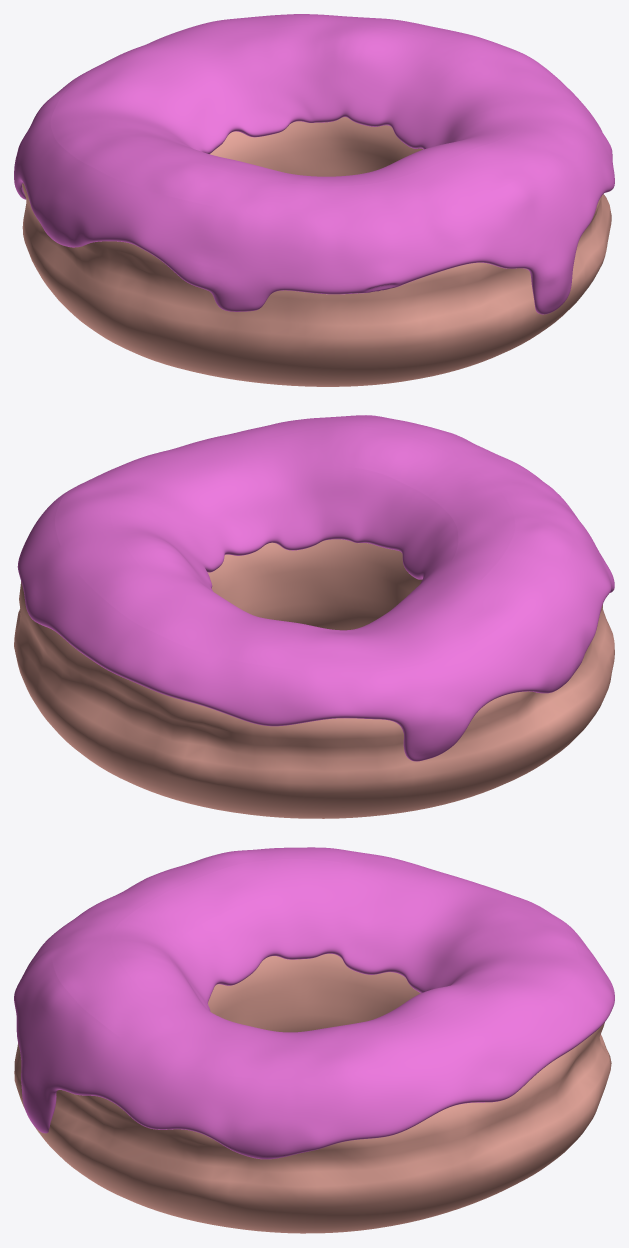
File: dONUTtest.gltf
The picture shows the model from 3 angles, top to bottom: view 1: azimuth 30°, elevation 25°; view 2: azimuth 150°, elevation 25°; view 3: azimuth 270°, elevation 25°; orthographic projection. The views are drawn at different scales.
Visible parts, largest first — view 1: Icecream, Donut; view 2: Icecream, Donut; view 3: Icecream, Donut.
Part boxes in pixels (box(x1,y1,x2,y2)): Icecream: box(14, 14, 614, 314); Donut: box(22, 117, 611, 386); Icecream: box(17, 415, 614, 761); Donut: box(14, 539, 614, 818); Icecream: box(14, 847, 614, 1159); Donut: box(14, 953, 611, 1233).
Bounding box in the file's own units: 0.1469 × 0.0549 × 0.1468.
